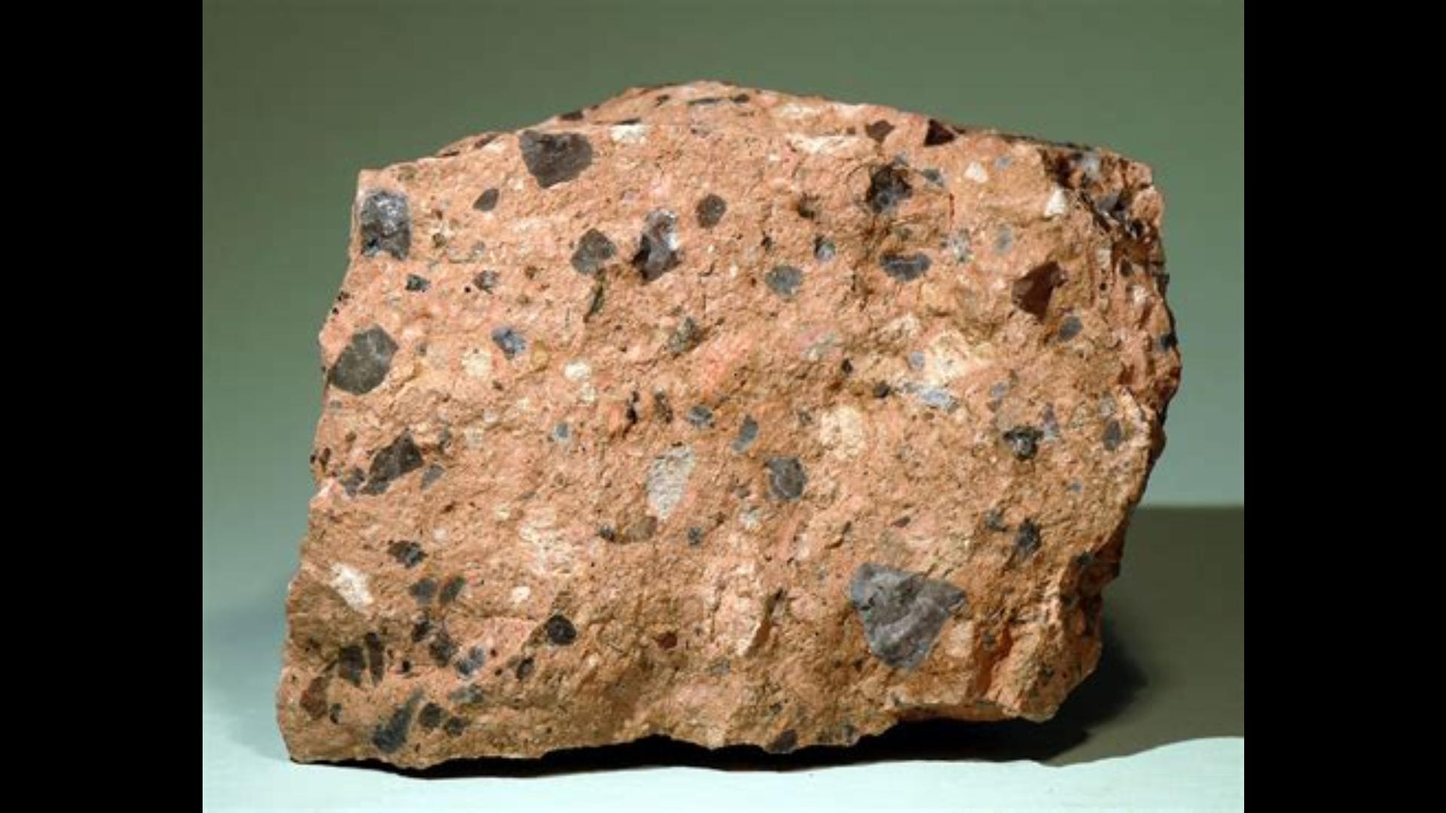rock: (285, 83, 1178, 767)
